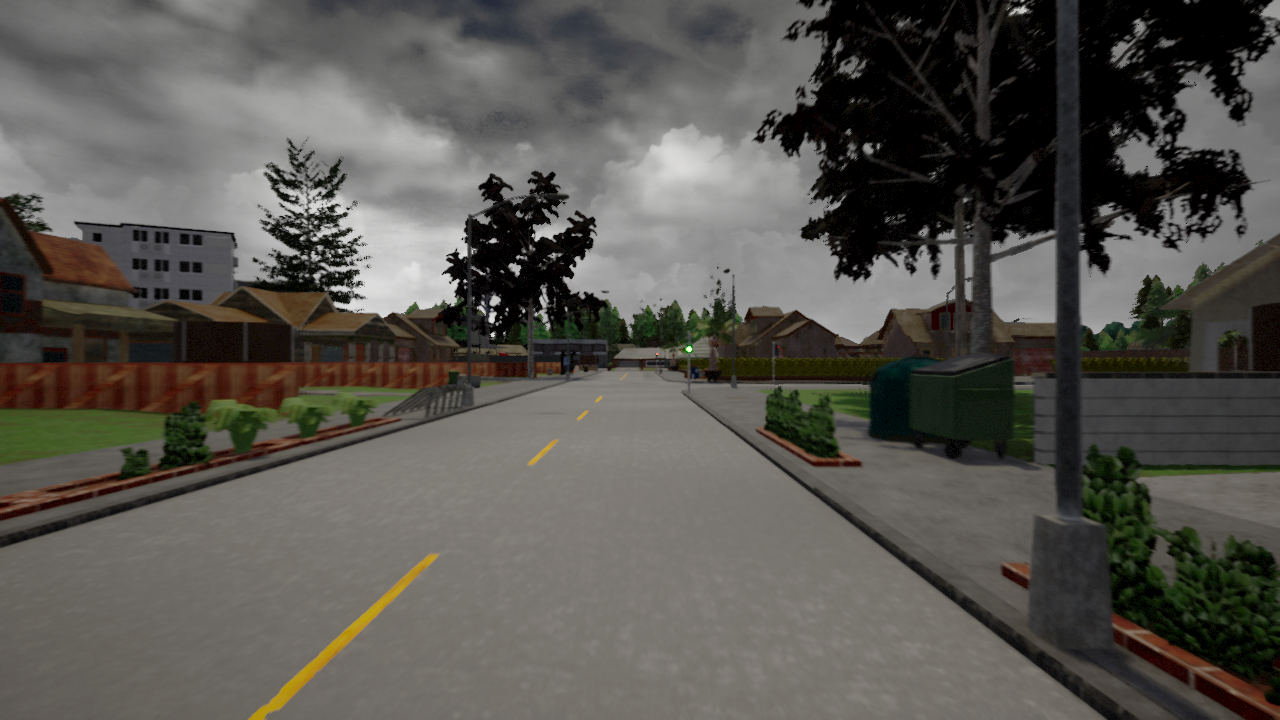green: (685, 335, 693, 353)
